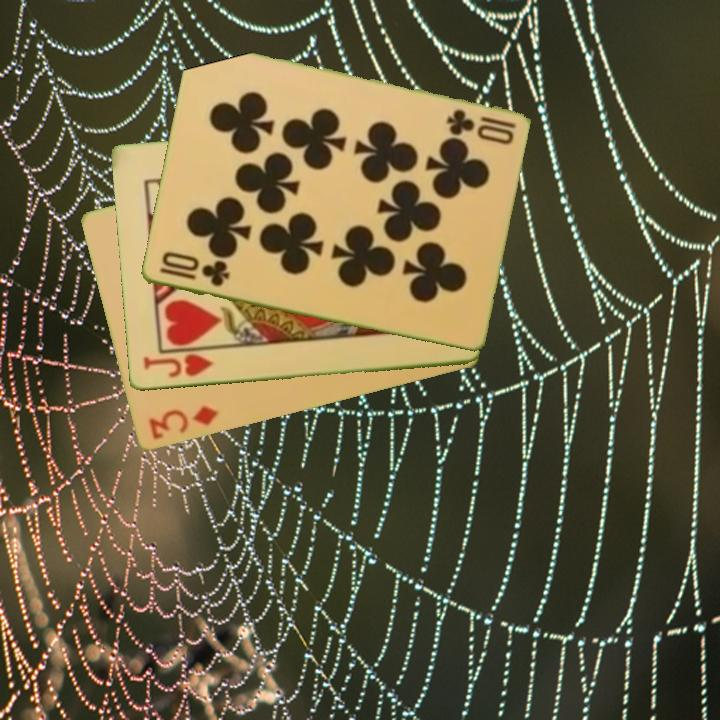10c: (155, 249, 232, 290), (442, 106, 518, 145)
3d: (145, 403, 221, 443)
Jh: (139, 350, 216, 381)
